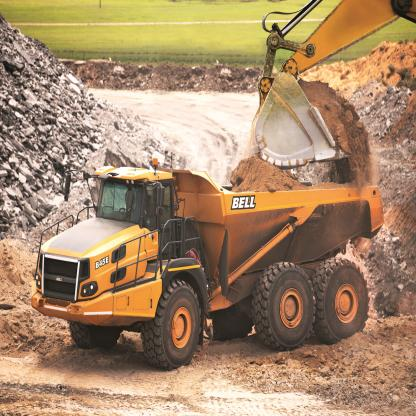dump_truck: (29, 154, 389, 363)
